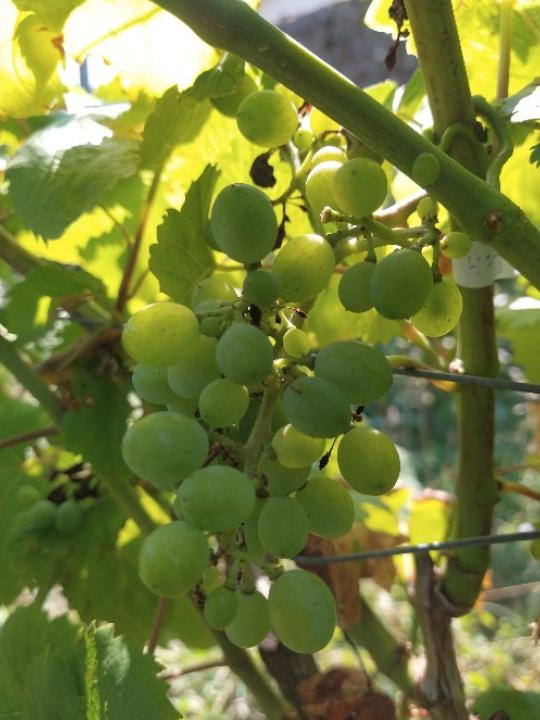grape: (118, 69, 466, 659)
